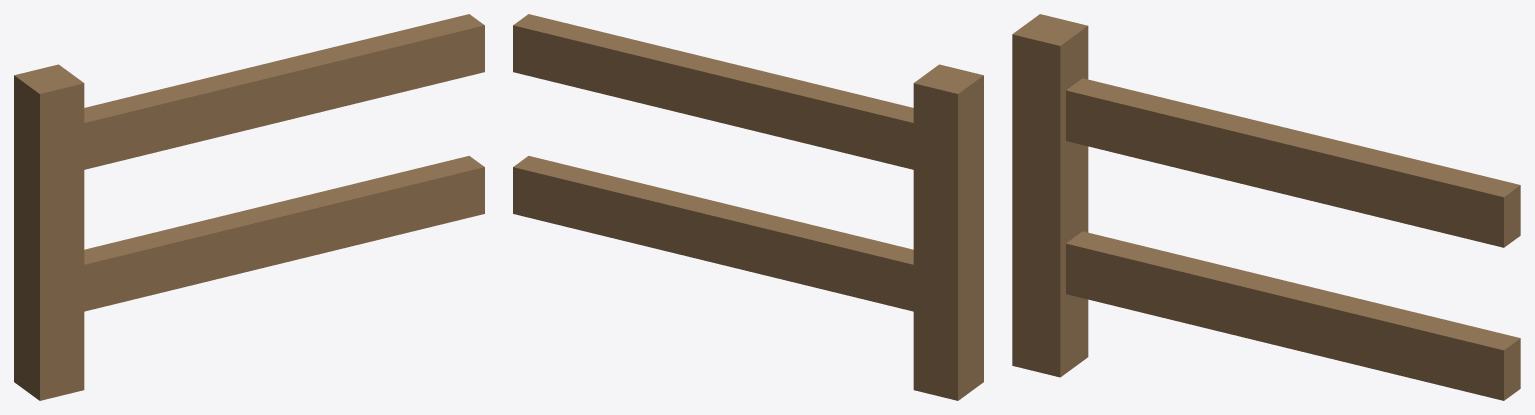
The model's file is SM_Fence_01_A.fbx.
3 views of the same model, side by side, from view 1: azimuth 30°, elevation 25°; view 2: azimuth 150°, elevation 25°; view 3: azimuth 330°, elevation 25° (orthographic). The views are drawn at different scales.
Visible parts, largest first — view 1: pCube174; view 2: pCube174; view 3: pCube174.
Part boxes in pixels (x1,y1,x2,y2): pCube174: (14, 14, 484, 400); pCube174: (513, 14, 983, 400); pCube174: (1012, 14, 1520, 400).
Size of the model in its own units: 105 by 68.4 by 10.4.
1 material, 1 textured.
